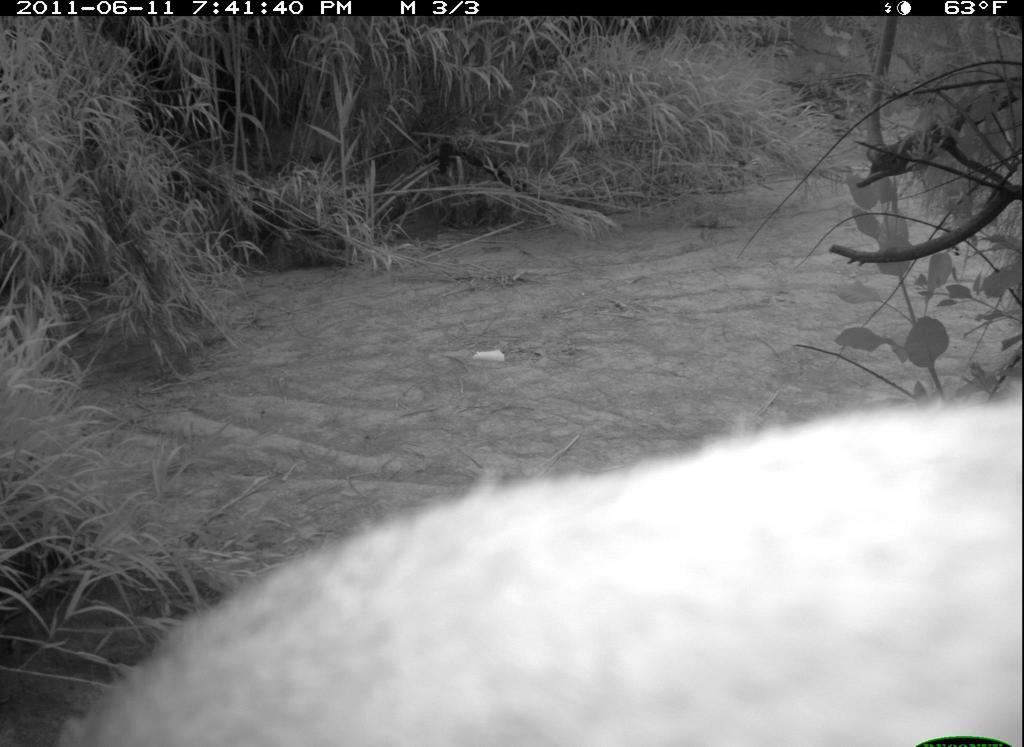bobcat: (52, 382, 1023, 747)
